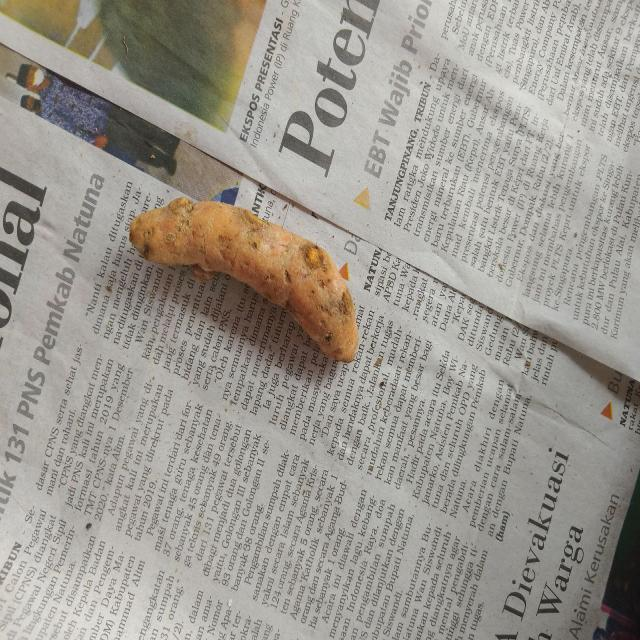ginger: (134, 186, 366, 374)
